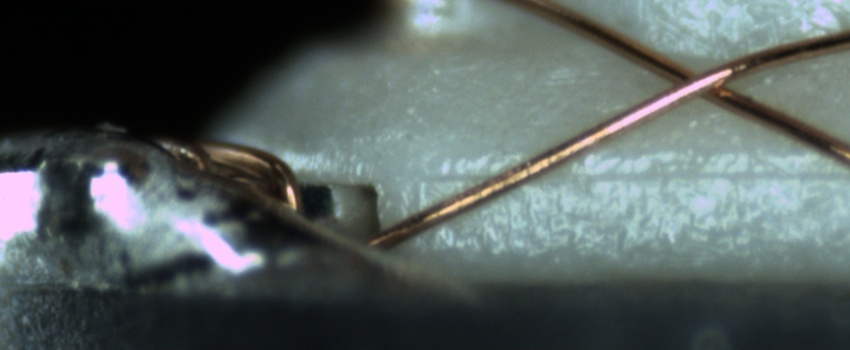CL: (644, 53, 746, 110)
DL: (418, 144, 850, 211)
TE: (136, 122, 310, 227)
